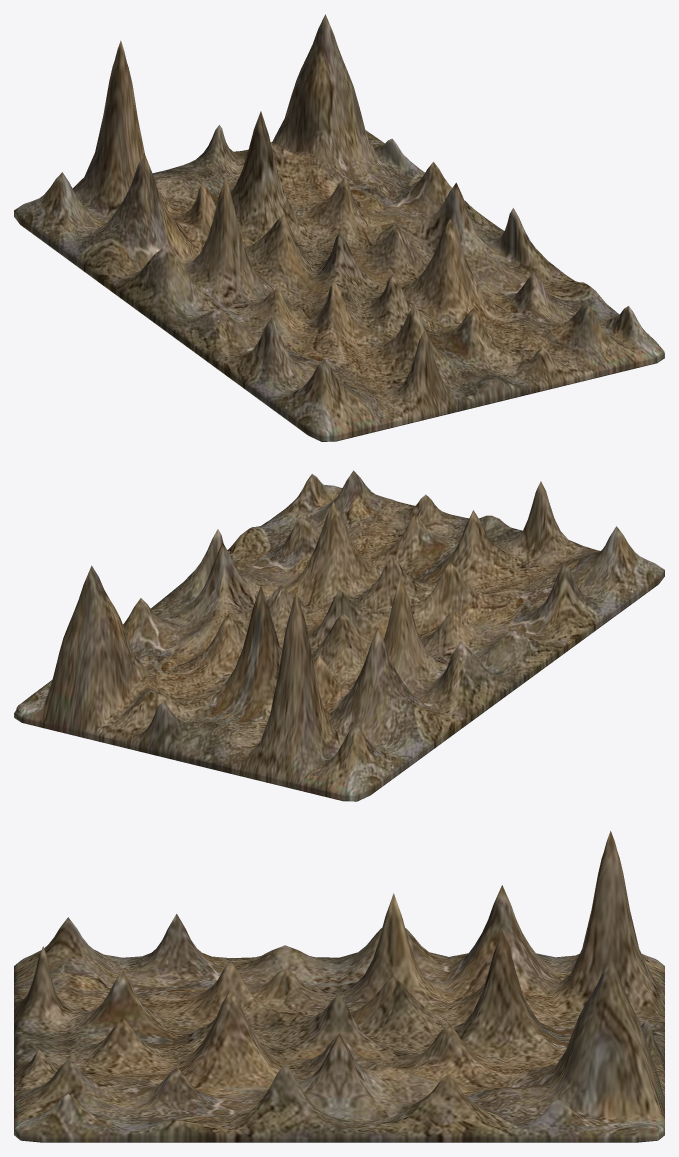
File: Stalagmite1_ver2.FBX
3 views of the same model, one above another, from view 1: azimuth 30°, elevation 25°; view 2: azimuth 150°, elevation 25°; view 3: azimuth 270°, elevation 25° (orthographic). The views are drawn at different scales.
Visible parts, largest first — view 1: Stalagmite_01; view 2: Stalagmite_01; view 3: Stalagmite_01.
Boxes of the visible parts, <box> form: Stalagmite_01: <box>14,14,664,441</box>; Stalagmite_01: <box>14,470,664,801</box>; Stalagmite_01: <box>14,831,664,1142</box>.
Size of the model in its own units: 58.07 by 27.54 by 90.12.
Materials: 1 (1 with a texture image).
